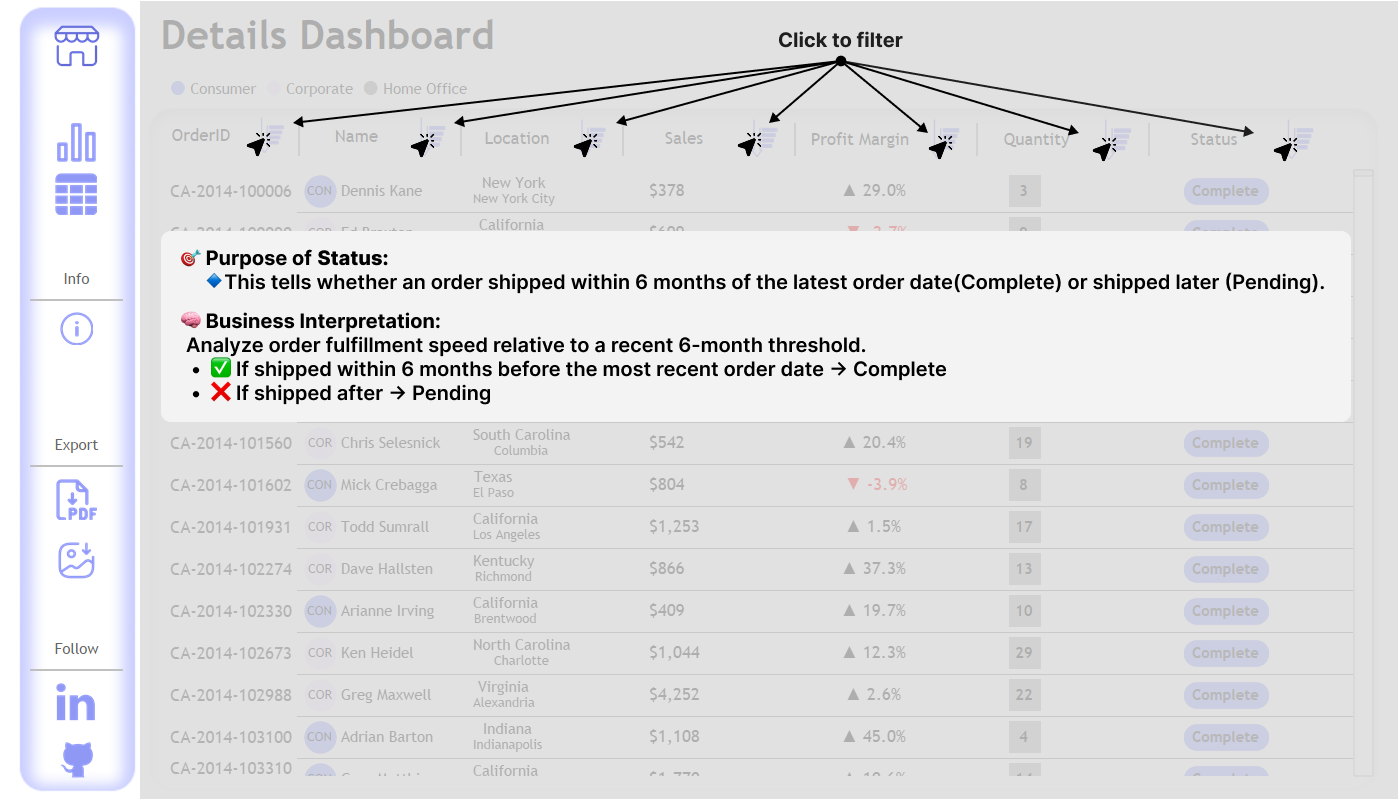

Layout of this report page (visuals, bound fields, positions):
{"tool":"tableau","page":{"name":"Details","canvas":[1400,800],"ordinal":0},"visuals":[{"type":"image","param":"Image/Details Background.png","box":[0,0,1400,800]},{"type":"text","box":[153,0,547,113]},{"type":"blank","box":[700,0,146,113]},{"type":"image","param":"Image/Details Informations.png","box":[140,1,1258,798]},{"type":"image","param":"Image/store.png","box":[20,20,113,50.7]},{"type":"blank","box":[20,70.7,113,50.7]},{"type":"text","box":[153,113,96,44]},{"type":"dashboard-object","box":[249,113,44,44]},{"type":"blank","box":[293,113,12,53]},{"type":"text","box":[305,113,103,47]},{"type":"dashboard-object","box":[408,113,47,47]},{"type":"blank","box":[455,113,12,53]},{"type":"text","box":[467,113,100,50]},{"type":"dashboard-object","box":[567,113,50,50]},{"type":"blank","box":[617,113,12,53]},{"type":"text","box":[629,113,100,50]},{"type":"dashboard-object","box":[729,113,50,50]},{"type":"blank","box":[779,113,12,53]},{"type":"text","box":[791,113,118,52]},{"type":"dashboard-object","box":[909,113,52,52]},{"type":"blank","box":[961,113,12,53]},{"type":"text","box":[973,113,107,53]},{"type":"dashboard-object","box":[1080,113,53,53]},{"type":"blank","box":[1133,113,12,53]},{"type":"text","box":[1145,113,118,52]},{"type":"dashboard-object","box":[1263,113,52,52]},{"type":"dashboard-object","box":[20,121.5,113,42]},{"type":"filter","title":"Details Table","param":"[federated.092n5at1iwde1215xpvts0dch7du].[none:Order ID:nk]","box":[153,157,140,60]},{"type":"filter","title":"Details Table","param":"[federated.092n5at1iwde1215xpvts0dch7du].[none:Customer Name:nk]","box":[305,160,150,60]},{"type":"filter","title":"Details Table","param":"[federated.092n5at1iwde1215xpvts0dch7du].[none:State:nk]","box":[467,163,150,60]},{"type":"filter","title":"Details Table","param":"[federated.092n5at1iwde1215xpvts0dch7du].[sum:Sales:qk]","box":[629,163,150,51]},{"type":"blank","box":[20,163.5,113,10]},{"type":"filter","title":"Details Table","param":"[federated.092n5at1iwde1215xpvts0dch7du].[usr:Calculation_1548393914851164160:nk","box":[791,165,170,58]},{"type":"filter","title":"Details Table","param":"[federated.092n5at1iwde1215xpvts0dch7du].[none:Calculation_74872411712827395:nk]","box":[1145,165,170,60]},{"type":"worksheet","title":"Details Table","mark":"Circle","rows":["Order ID"],"cols":["Calculation_74872411705106433","Calculation_74872411705106433","Calculation_74872411718529031","Calculation_74872411720339465","Calculation_74872411720339465","Calculation_74872411724111885","Calculation_74872411724660751","Calculation_74872411724660751"],"box":[153,166,1227,614]},{"type":"filter","title":"Details Table","param":"[federated.092n5at1iwde1215xpvts0dch7du].[sum:Quantity:qk]","box":[973,166,160,51]},{"type":"dashboard-object","box":[20,173.5,113,42]},{"type":"blank","box":[20,215.5,113,50.7]},{"type":"filter","title":"Details Table","param":"[federated.092n5at1iwde1215xpvts0dch7du].[none:City:nk]","box":[467,223,150,60]},{"type":"text","box":[20,266.2,113,26]},{"type":"blank","box":[20,292.2,113,16]},{"type":"dashboard-object","box":[20,308.2,113,41]},{"type":"blank","box":[20,349.3,113,32]},{"type":"blank","box":[20,381.3,113,50.7]},{"type":"text","box":[20,432,113,26]},{"type":"blank","box":[20,458,113,16]},{"type":"dashboard-object","box":[20,474,113,50.7]},{"type":"blank","box":[20,524.7,113,10]},{"type":"dashboard-object","box":[20,534.7,113,50.7]},{"type":"blank","box":[20,585.5,113,50.7]},{"type":"text","box":[20,636.2,113,26]},{"type":"blank","box":[20,662.2,113,16]},{"type":"image","param":"Image/linkedin.png","box":[20,678.2,113,50.7]},{"type":"blank","box":[20,729,113,10]},{"type":"image","param":"Image/github.png","box":[20,739,113,41]}]}

Visuals, with their boxes on the page's 1400x800 design canvas (x1, y1, x2, y2). These are canvas units, not pixel positions in the 1400x800 screenshot, which may show the page scaled, cropped or inside an application window:
image: 0:0:1400:800
text: 153:0:700:113
blank: 700:0:846:113
image: 140:1:1398:799
image: 20:20:133:71
blank: 20:71:133:121
text: 153:113:249:157
dashboard-object: 249:113:293:157
blank: 293:113:305:166
text: 305:113:408:160
dashboard-object: 408:113:455:160
blank: 455:113:467:166
text: 467:113:567:163
dashboard-object: 567:113:617:163
blank: 617:113:629:166
text: 629:113:729:163
dashboard-object: 729:113:779:163
blank: 779:113:791:166
text: 791:113:909:165
dashboard-object: 909:113:961:165
blank: 961:113:973:166
text: 973:113:1080:166
dashboard-object: 1080:113:1133:166
blank: 1133:113:1145:166
text: 1145:113:1263:165
dashboard-object: 1263:113:1315:165
dashboard-object: 20:122:133:164
"Details Table" filter: 153:157:293:217
"Details Table" filter: 305:160:455:220
"Details Table" filter: 467:163:617:223
"Details Table" filter: 629:163:779:214
blank: 20:164:133:174
"Details Table" filter: 791:165:961:223
"Details Table" filter: 1145:165:1315:225
"Details Table" worksheet (Circle marks): 153:166:1380:780
"Details Table" filter: 973:166:1133:217
dashboard-object: 20:174:133:216
blank: 20:216:133:266
"Details Table" filter: 467:223:617:283
text: 20:266:133:292
blank: 20:292:133:308
dashboard-object: 20:308:133:349
blank: 20:349:133:381
blank: 20:381:133:432
text: 20:432:133:458
blank: 20:458:133:474
dashboard-object: 20:474:133:525
blank: 20:525:133:535
dashboard-object: 20:535:133:585
blank: 20:586:133:636
text: 20:636:133:662
blank: 20:662:133:678
image: 20:678:133:729
blank: 20:729:133:739
image: 20:739:133:780
